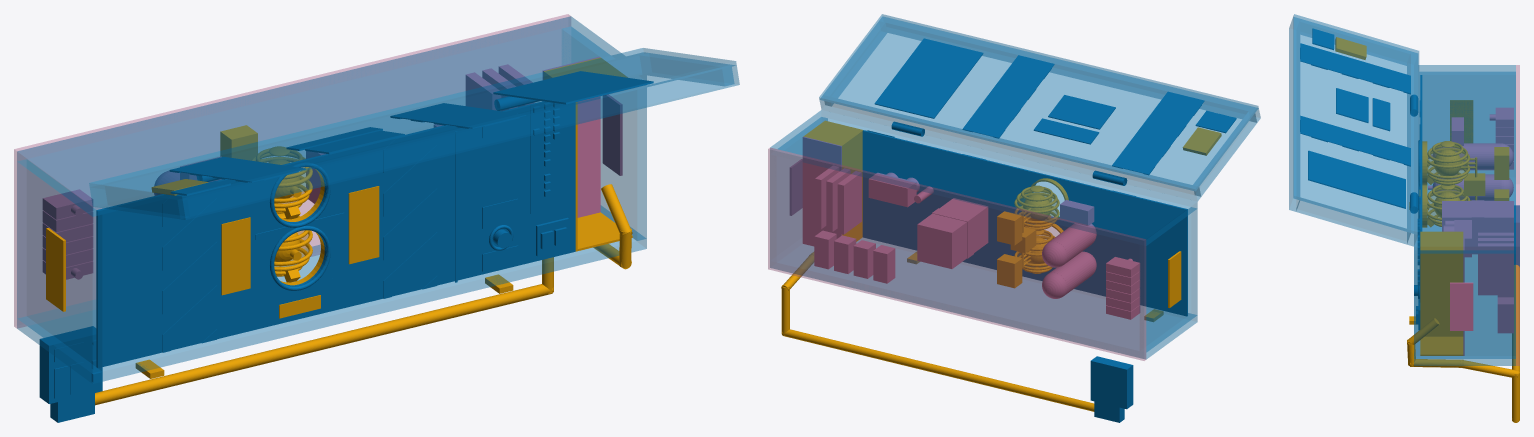
Rendered from c204_A_ouvert_interne.obj.
The picture shows the model from 3 angles, left to right: view 1: azimuth 30°, elevation 25°; view 2: azimuth 150°, elevation 25°; view 3: azimuth 270°, elevation 25°; orthographic projection. The views are drawn at different scales.
Visible parts, largest first — view 1: A-003_Corps___paroi_arrière, A-001_Corps___fond, A-012_Couvercle___dessus, A-004_Corps___paroi_d_extrémité_gauche, A-013_Couvercle___rebord_avant, A-002_Corps___paroi_avant, A-005_Corps___paroi_d_extrémité_droite, A-014_Couvercle___rebord_arrière, A-104_Cordon_spiralé___tronçon_1, A-034_Platine___zone_tramée_gauche__a_, A-061_Platine___zone_4__support_de_l_écran_de_secours_, A-063_Panneau_5___fond_blanc (+40 smaller); view 2: A-001_Corps___fond, A-012_Couvercle___dessus, A-003_Corps___paroi_arrière, A-002_Corps___paroi_avant, A-004_Corps___paroi_d_extrémité_gauche, A-014_Couvercle___rebord_arrière, A-029_Plaque_d_instructions_de_commande__7_, A-013_Couvercle___rebord_avant, A-005_Corps___paroi_d_extrémité_droite, A-161_Générateur_d_électrons__6____boîtier, A-017_Couvercle___bande_de_danger_n_1__fond_, A-023_Couvercle___bande_de_danger_n_2__fond_ (+41 smaller); view 3: A-012_Couvercle___dessus, A-003_Corps___paroi_arrière, A-005_Corps___paroi_d_extrémité_droite, A-004_Corps___paroi_d_extrémité_gauche, A-002_Corps___paroi_avant, A-093_Rangement_9___cloison_gauche, A-029_Plaque_d_instructions_de_commande__7_, A-013_Couvercle___rebord_avant, A-017_Couvercle___bande_de_danger_n_1__fond_, A-023_Couvercle___bande_de_danger_n_2__fond_, A-173_Calculateur_n_3__volume_générique_, A-014_Couvercle___rebord_arrière (+33 smaller).
Part boxes in pixels (x1,y1,x2,y2): A-003_Corps___paroi_arrière: [17, 16, 646, 216]; A-001_Corps___fond: [14, 14, 570, 328]; A-012_Couvercle___dessus: [89, 48, 736, 200]; A-004_Corps___paroi_d_extrémité_gauche: [17, 160, 101, 373]; A-013_Couvercle___rebord_avant: [177, 65, 739, 219]; A-002_Corps___paroi_avant: [17, 206, 646, 383]; A-005_Corps___paroi_d_extrémité_droite: [562, 27, 646, 240]; A-014_Couvercle___rebord_arrière: [90, 52, 646, 207]; A-104_Cordon_spiralé___tronçon_1: [95, 284, 553, 405]; A-034_Platine___zone_tramée_gauche__a_: [96, 202, 131, 367]; A-061_Platine___zone_4__support_de_l_écran_de_secours_: [436, 125, 475, 285]; A-063_Panneau_5___fond_blanc: [475, 106, 525, 275]; A-001_Corps___fond: [768, 148, 1145, 360]; A-012_Couvercle___dessus: [819, 14, 1258, 191]; A-003_Corps___paroi_arrière: [770, 110, 1197, 245]; A-002_Corps___paroi_avant: [770, 238, 1197, 359]; A-004_Corps___paroi_d_extrémité_gauche: [1140, 207, 1197, 352]; A-014_Couvercle___rebord_arrière: [819, 95, 1200, 201]; A-029_Plaque_d_instructions_de_commande__7_: [874, 38, 983, 118]; A-013_Couvercle___rebord_avant: [879, 17, 1260, 122]; A-005_Corps___paroi_d_extrémité_droite: [770, 117, 827, 260]; A-161_Générateur_d_électrons__6____boîtier: [917, 198, 988, 268]; A-017_Couvercle___bande_de_danger_n_1__fond_: [1112, 91, 1204, 174]; A-023_Couvercle___bande_de_danger_n_2__fond_: [963, 55, 1054, 137]; A-012_Couvercle___dessus: [1293, 14, 1418, 234]; A-003_Corps___paroi_arrière: [1414, 65, 1515, 253]; A-005_Corps___paroi_d_extrémité_droite: [1414, 250, 1515, 358]; A-004_Corps___paroi_d_extrémité_gauche: [1419, 72, 1515, 177]; A-002_Corps___paroi_avant: [1414, 180, 1515, 365]; A-093_Rangement_9___cloison_gauche: [1420, 231, 1463, 336]; A-029_Plaque_d_instructions_de_commande__7_: [1308, 151, 1405, 208]; A-013_Couvercle___rebord_avant: [1289, 17, 1299, 211]; A-017_Couvercle___bande_de_danger_n_1__fond_: [1300, 43, 1410, 93]; A-023_Couvercle___bande_de_danger_n_2__fond_: [1300, 116, 1410, 165]; A-173_Calculateur_n_3__volume_générique_: [1478, 243, 1513, 295]; A-014_Couvercle___rebord_arrière: [1407, 51, 1417, 246].
Size of the model in its own units: 0.858 by 0.5175 by 0.4563.
